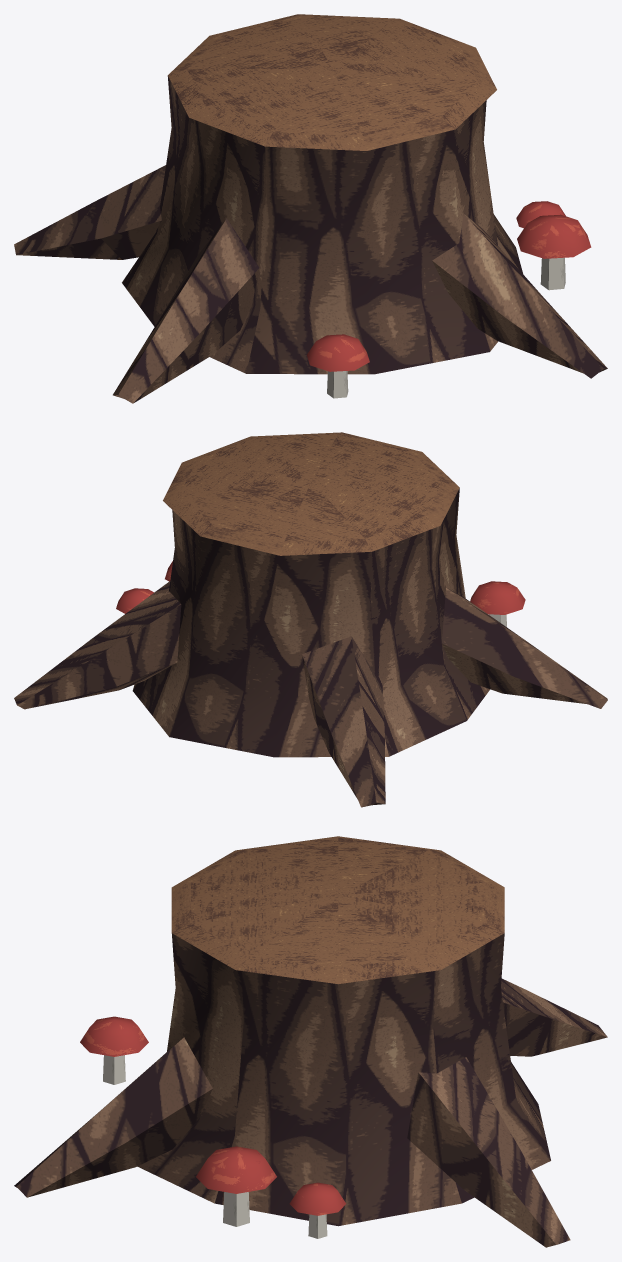
File: stump.glb
3 views of the same model, one above another, from view 1: azimuth 30°, elevation 25°; view 2: azimuth 150°, elevation 25°; view 3: azimuth 270°, elevation 25° (orthographic). The views are drawn at different scales.
Visible parts, largest first — view 1: Stump; view 2: Stump; view 3: Stump.
Part boxes in pixels (bbox=[...]): Stump: bbox=[14, 14, 607, 403]; Stump: bbox=[14, 432, 607, 807]; Stump: bbox=[14, 836, 607, 1247].
Size of the model in its own units: 1.49 by 0.64 by 1.46.
3 materials, 3 textured.
